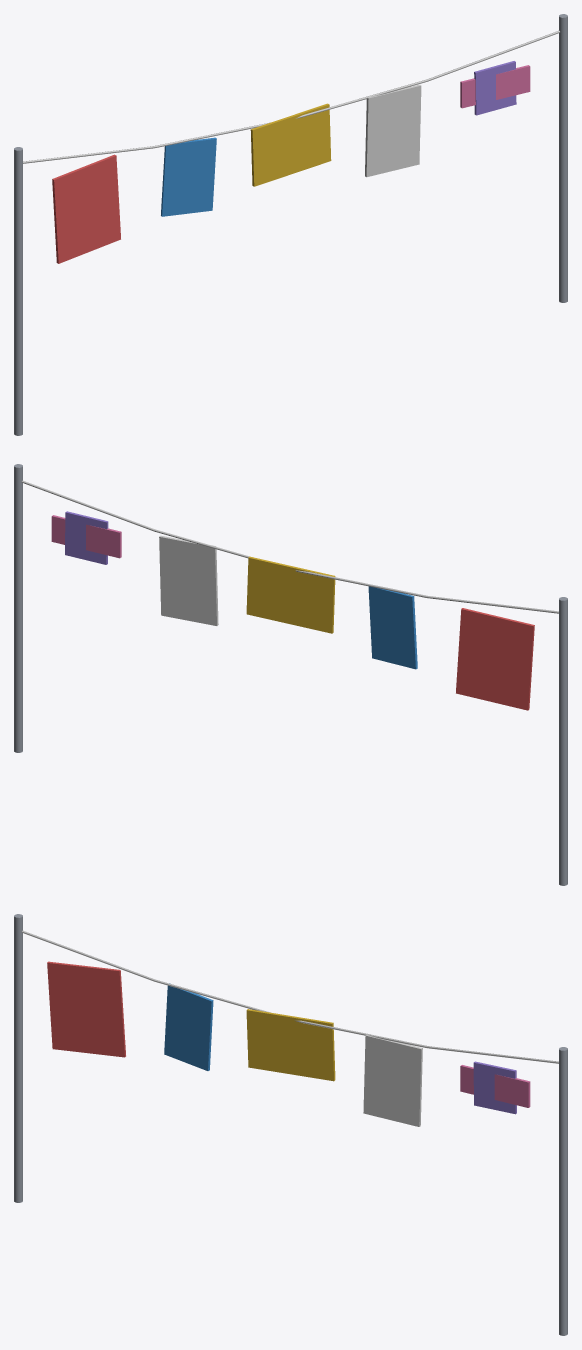
File: clothesline.glb
3 renders of one model, top to bottom at view 1: azimuth 30°, elevation 25°; view 2: azimuth 150°, elevation 25°; view 3: azimuth 330°, elevation 25°, orthographic.
Visible parts, largest first — view 1: clothes, main; view 2: clothes, main; view 3: clothes, main.
Boxes of the visible parts, bbox=[...] form: clothes: bbox=[52, 61, 530, 263]; main: bbox=[14, 14, 567, 435]; clothes: bbox=[51, 511, 534, 710]; main: bbox=[14, 464, 567, 885]; clothes: bbox=[47, 961, 530, 1126]; main: bbox=[14, 914, 567, 1335].
Size of the model in its own units: 4.06 by 2 by 0.088.
